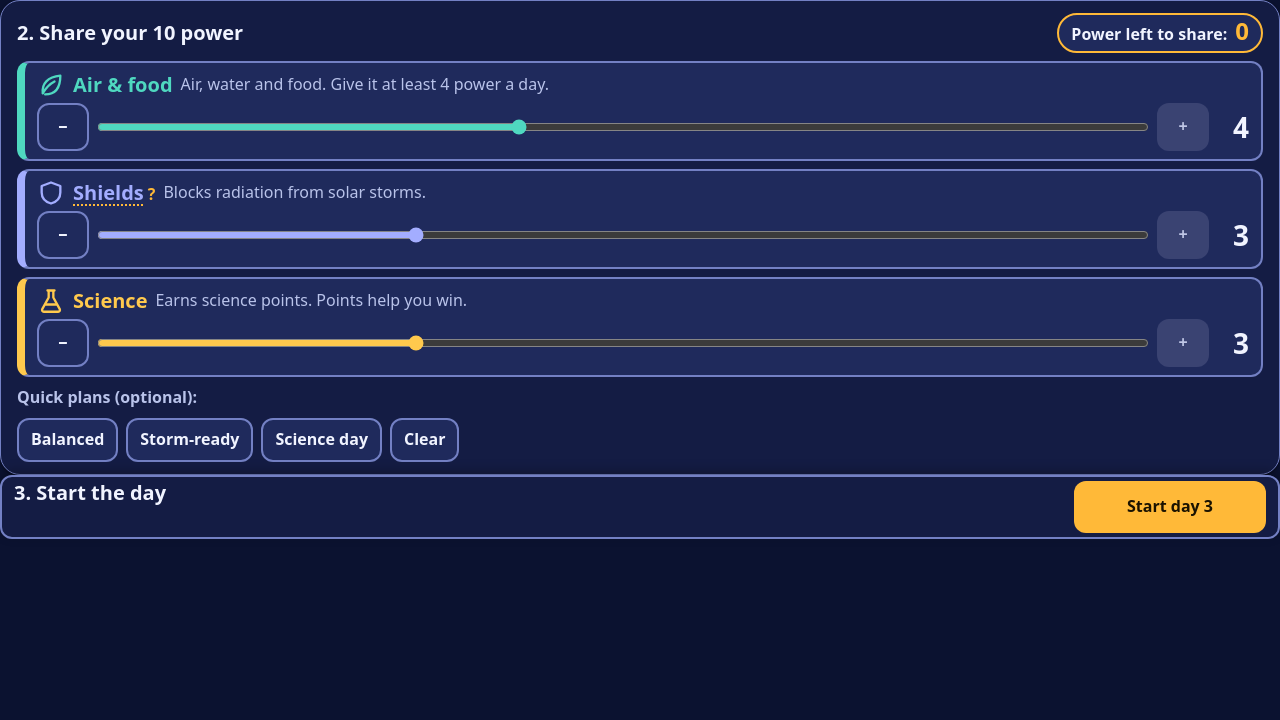
Test case: PowerAllocator › plus takes from the pool, minus gives back, and + is disabled only at pool 0
The width and height of the screenshot is (1280, 720).
Click the button "−" below "Blocks radiation from solar storms.".
click(63, 235)  # box [37,211,89,259]
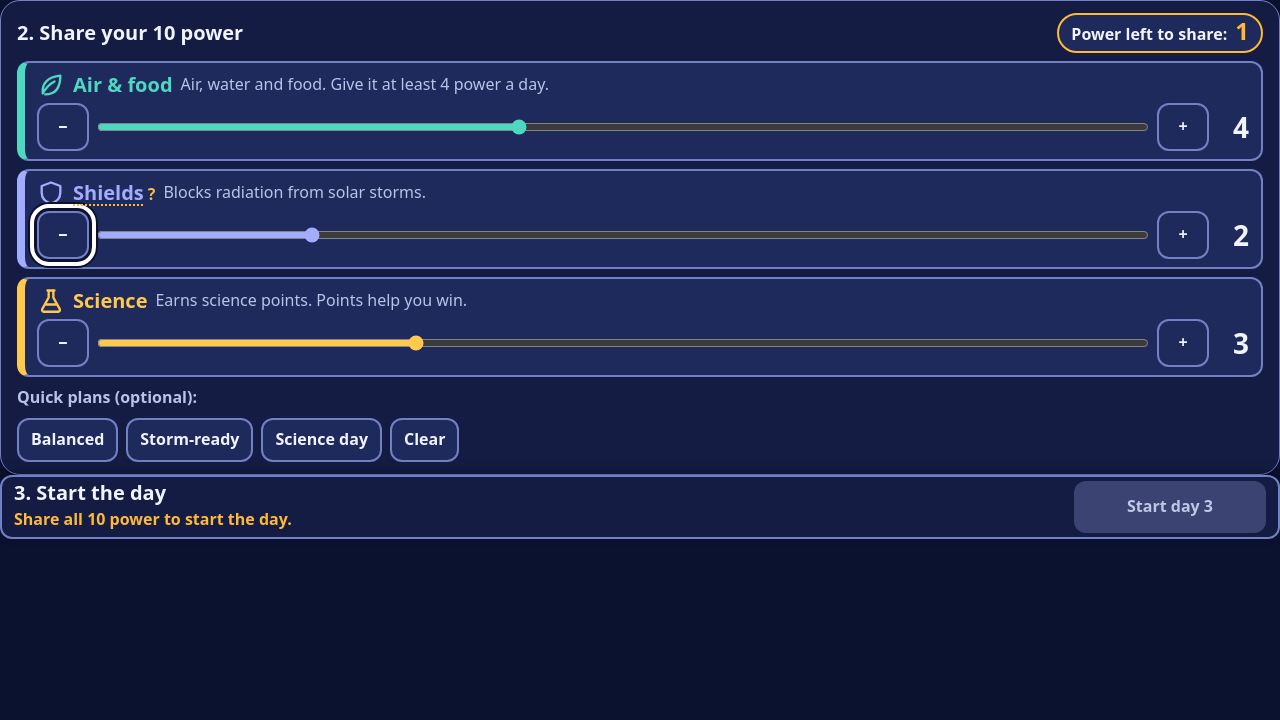
Expected: the text "Power left to share: 1" is shown, [1057,13,1263,53]
Click the 3rd button "+".
click(1183, 343)  # box [1157,319,1209,367]
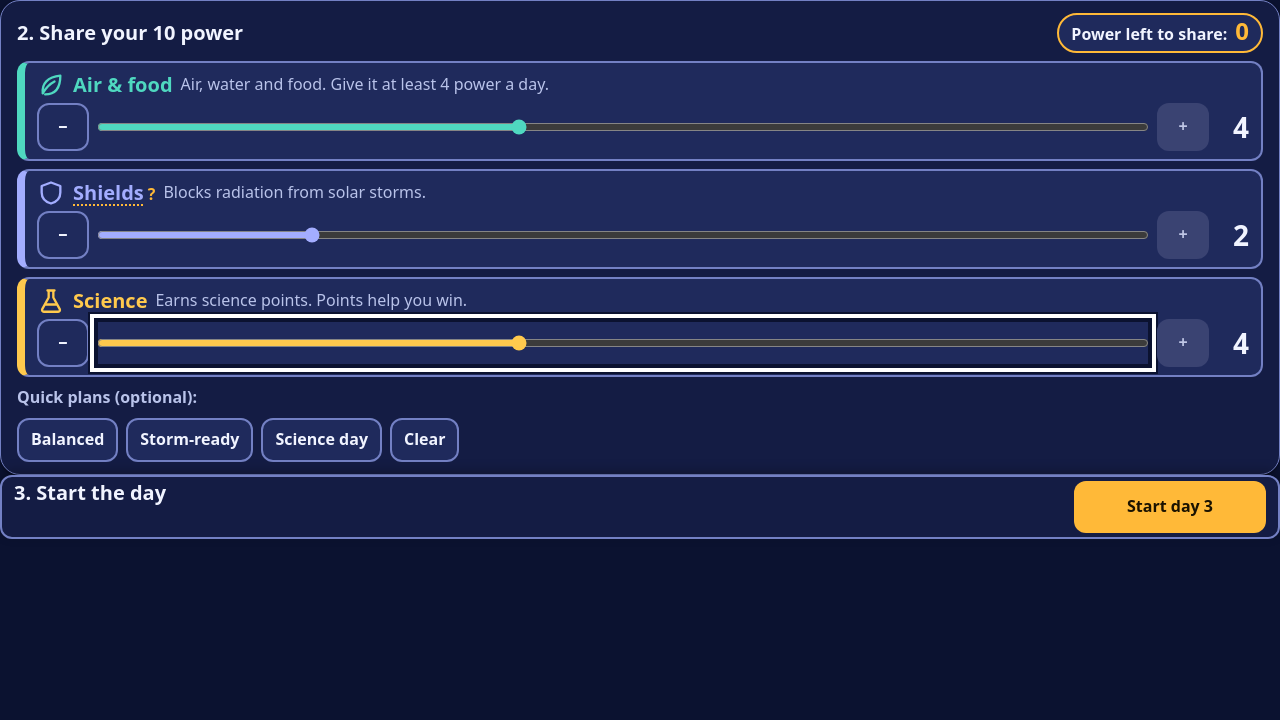
Expected: the text "Power left to share: 0" is shown, [1057,13,1263,53]
